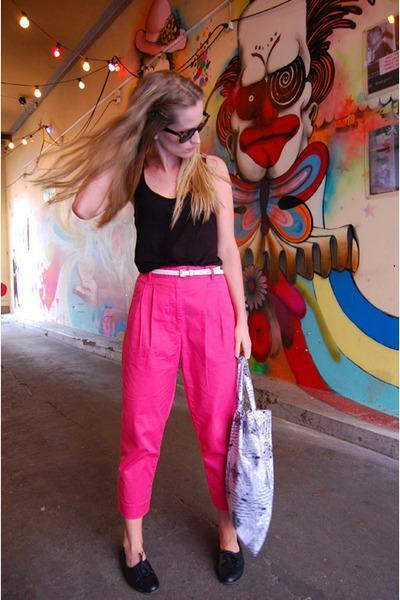bag: (226, 348, 273, 553)
pants: (108, 265, 251, 520)
shirt: (132, 180, 222, 274)
shoe: (120, 547, 243, 592)
sunglass: (168, 108, 204, 142)
